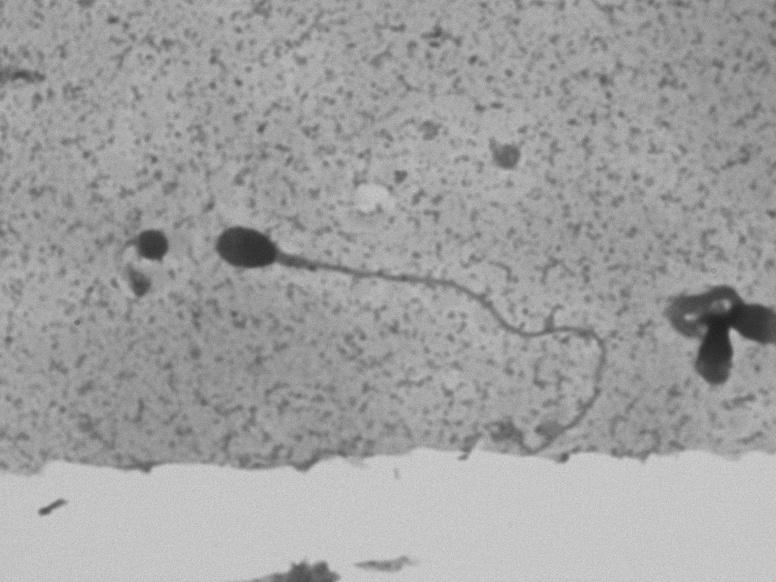Normal: (204, 211, 620, 452)
